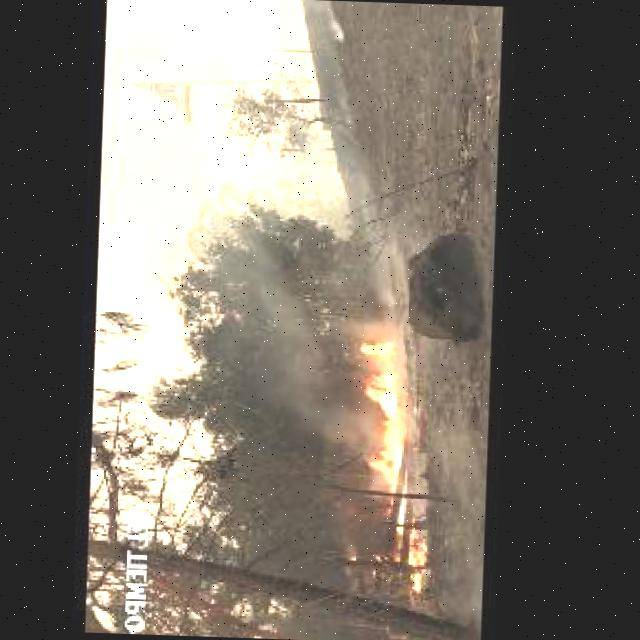fire: (197, 264, 360, 461), (355, 338, 402, 489), (406, 531, 428, 592)
